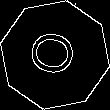O_E: (25, 28, 85, 82)
